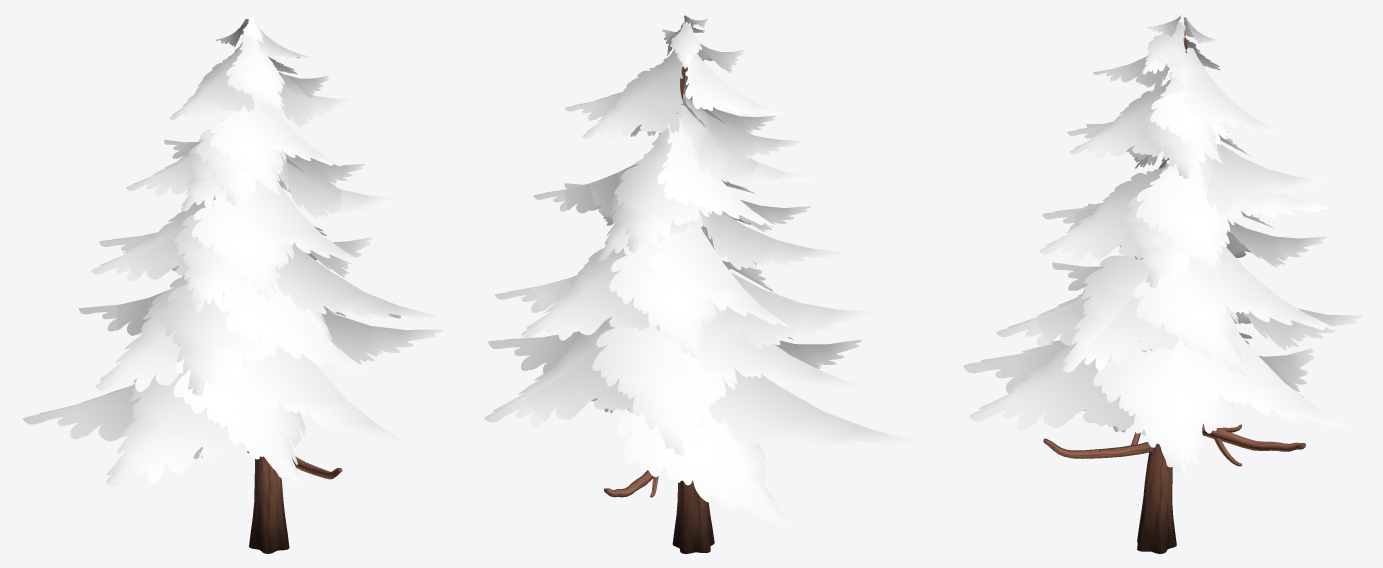
The model's file is Pine_2.glb.
3 views of the same model, side by side, from view 1: azimuth 30°, elevation 25°; view 2: azimuth 150°, elevation 25°; view 3: azimuth 270°, elevation 25° (orthographic). The views are drawn at different scales.
Parts seen in each view (by area): view 1: Pine_2; view 2: Pine_2; view 3: Pine_2.
Part boxes in pixels (box(x1,y1,x2,y2)): Pine_2: box(22, 16, 441, 553); Pine_2: box(484, 15, 917, 553); Pine_2: box(963, 15, 1362, 553).
Size of what is drawn, in the model's own units: 5.73 by 7.38 by 5.22.
Materials: 2 (2 with a texture image).
